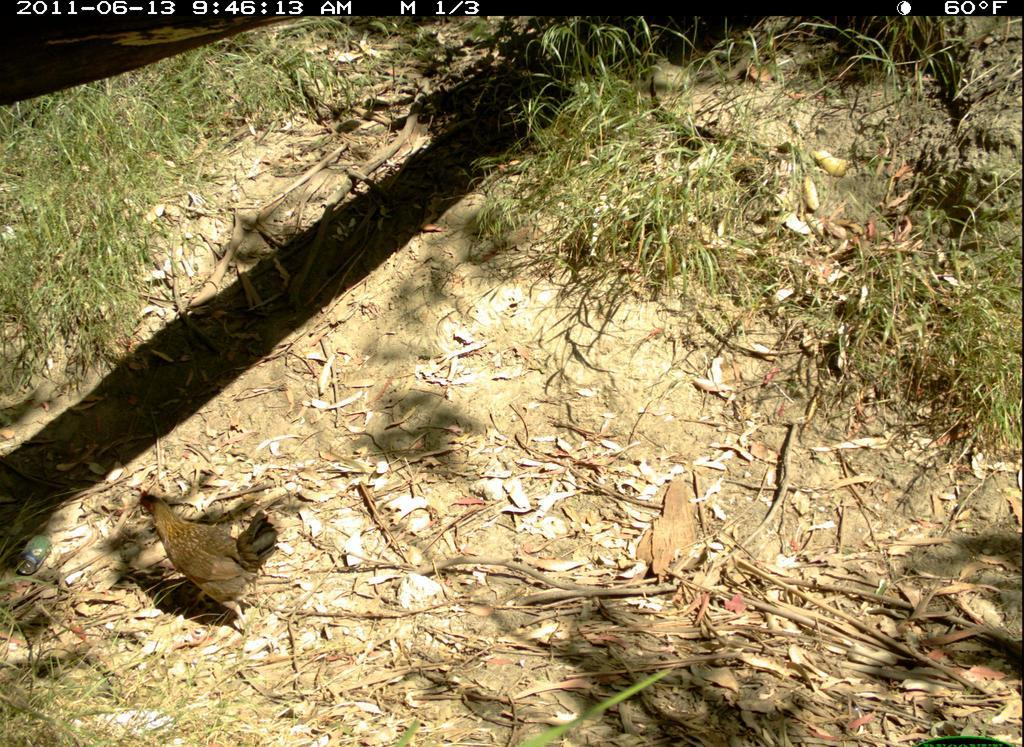bird: (131, 484, 273, 632)
